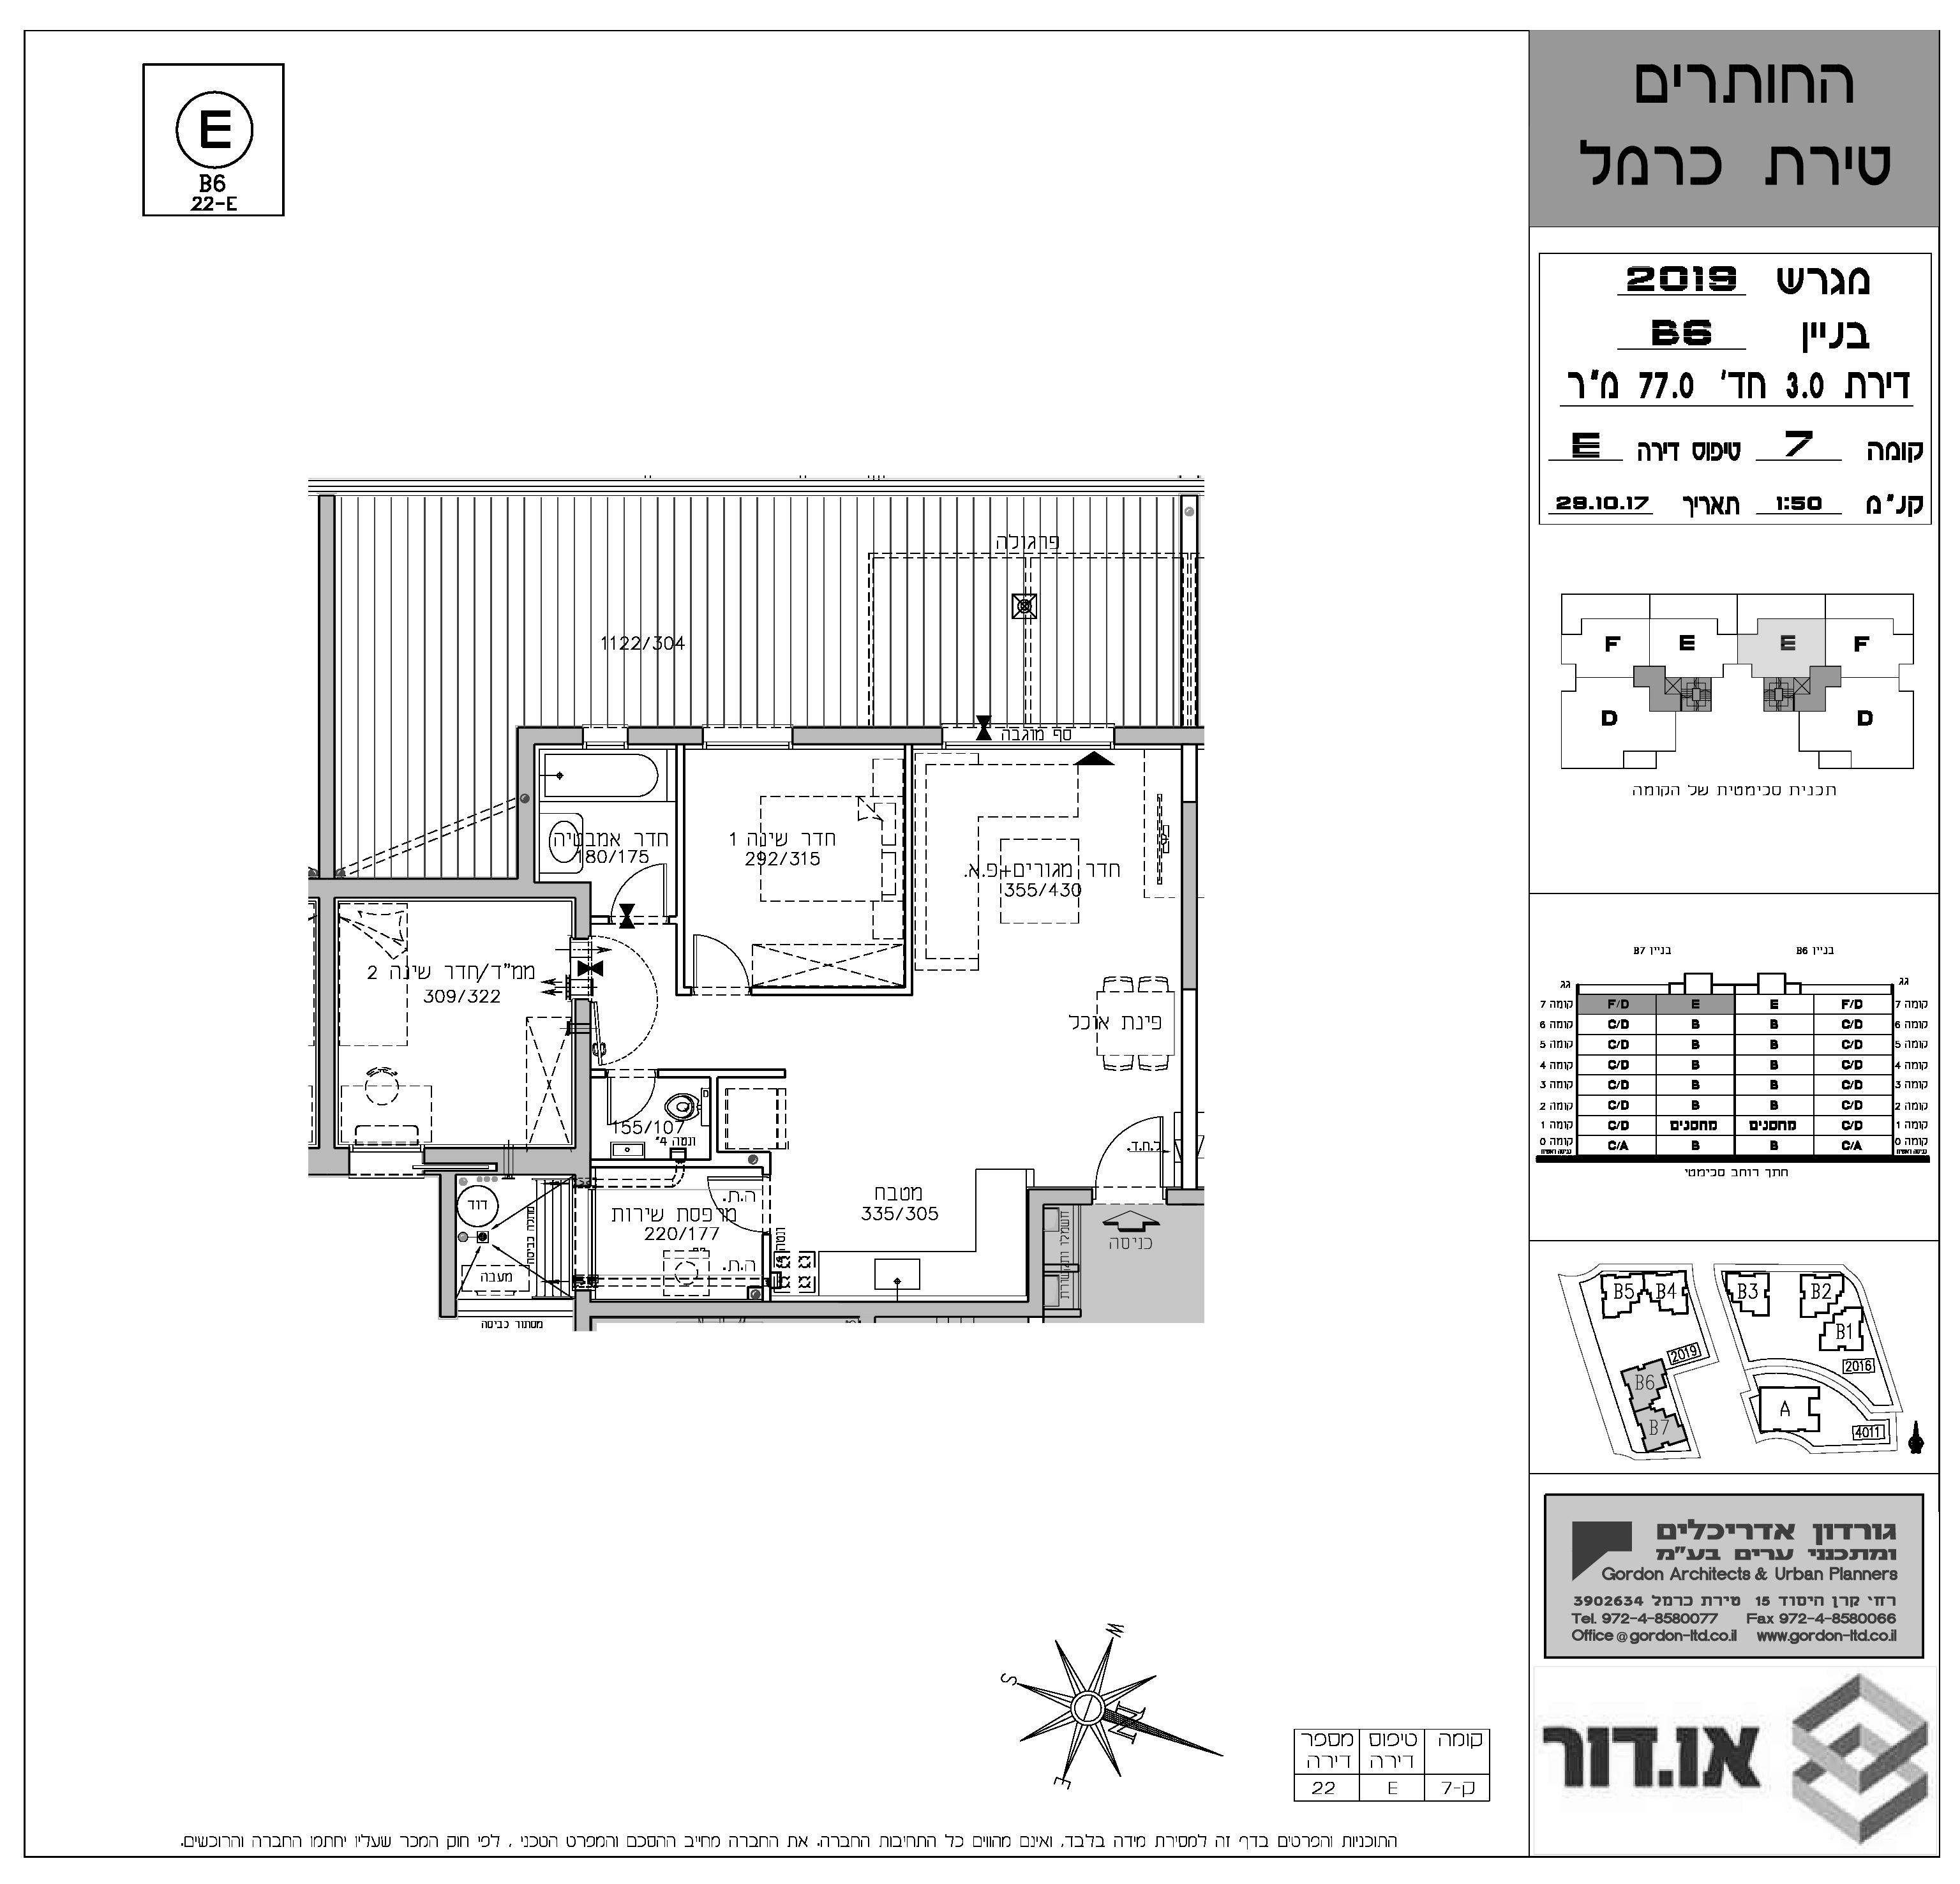door: (1092, 1111, 1167, 1181), (690, 931, 749, 985), (602, 1081, 663, 1134), (609, 862, 669, 915)
window: (702, 728, 793, 749), (583, 728, 628, 749)
